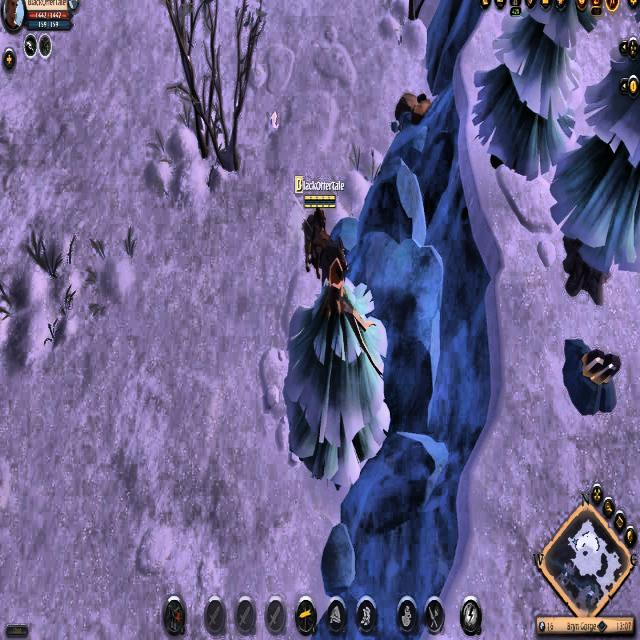copperore: (563, 332, 622, 412)
limestone: (391, 88, 432, 130)
